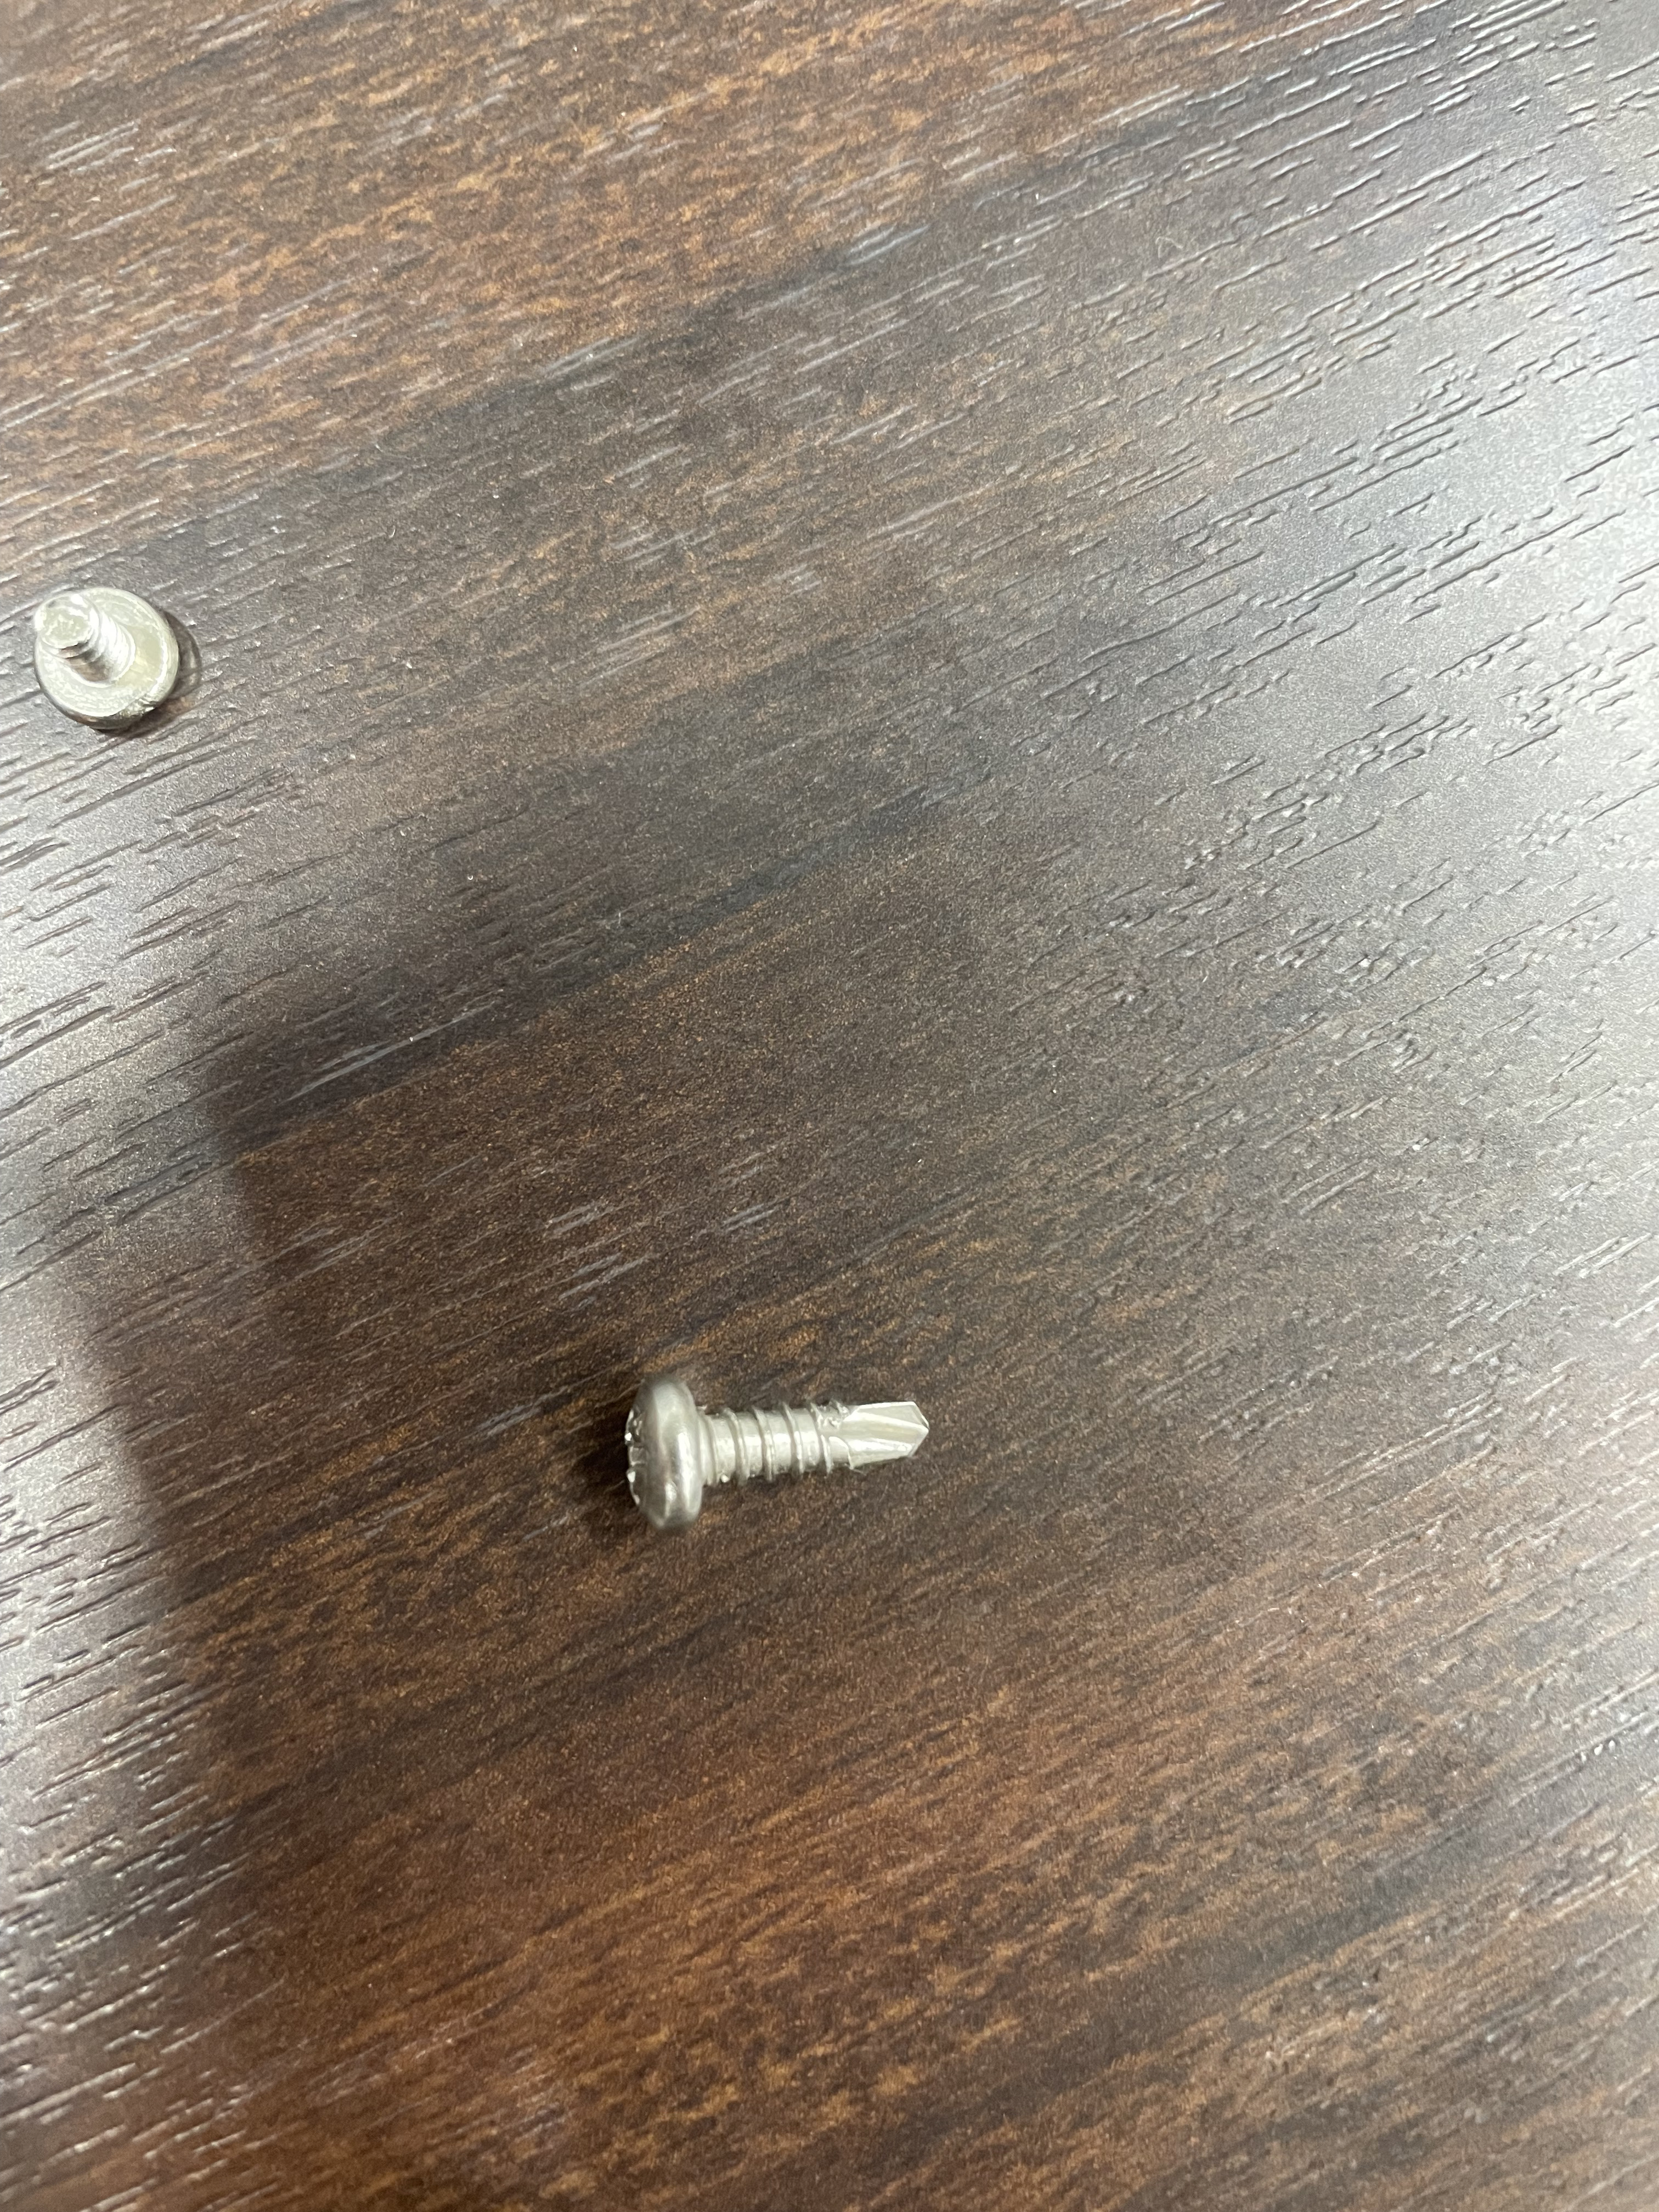screw3: (614, 1375, 937, 1533)
